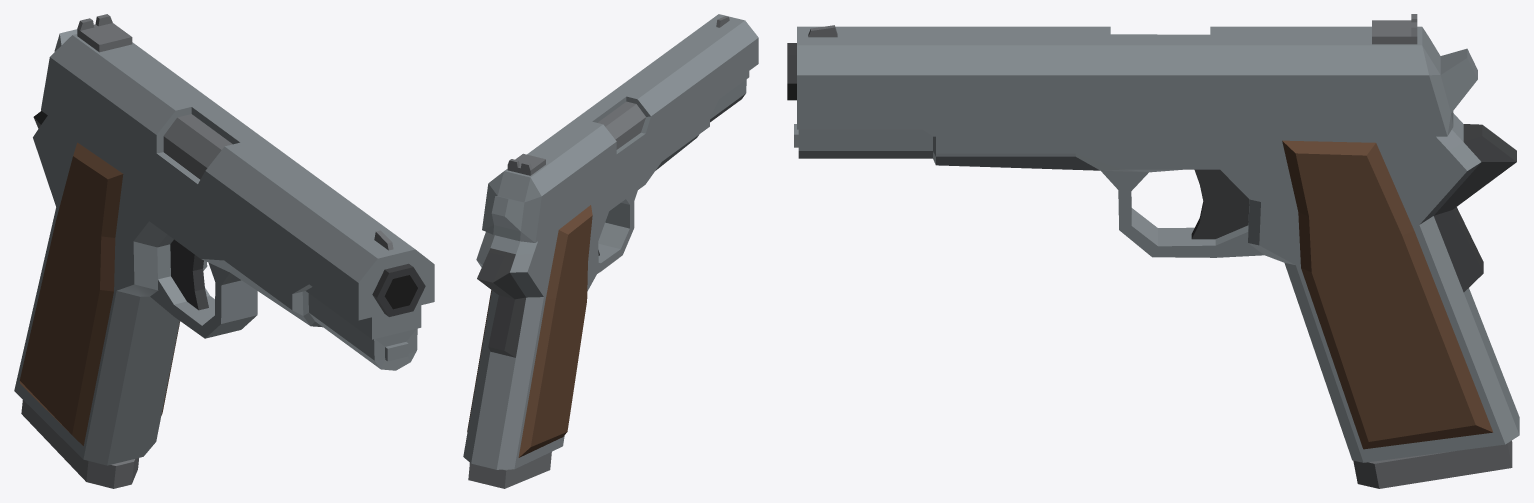
File: Pistol.fbx
3 views of the same model, side by side, from view 1: azimuth 30°, elevation 25°; view 2: azimuth 150°, elevation 25°; view 3: azimuth 270°, elevation 25° (orthographic). The views are drawn at different scales.
Parts seen in each view (by area): view 1: Pistol; view 2: Pistol; view 3: Pistol.
Part boxes in pixels (box(x1,y1,x2,y2)): Pistol: box(14, 14, 434, 488); Pistol: box(463, 14, 758, 488); Pistol: box(787, 14, 1519, 488).
Bounding box in the file's own units: 3.3 × 15.63 × 22.62.
